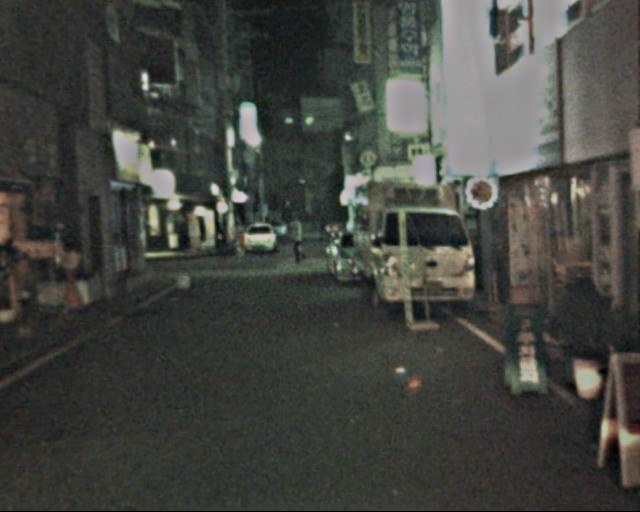person: (285, 217, 307, 270)
